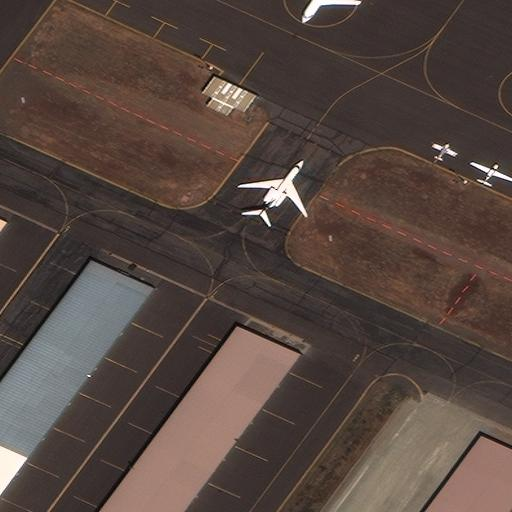Medium Civil Transport: (239, 160, 307, 215), (296, 0, 359, 22)
Small Civil Transport: (471, 161, 512, 184), (434, 142, 458, 160)
